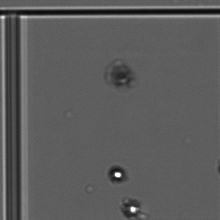Dead Cell: (102, 57, 138, 93)
Living Cell: (119, 195, 144, 219), (104, 162, 128, 186)
